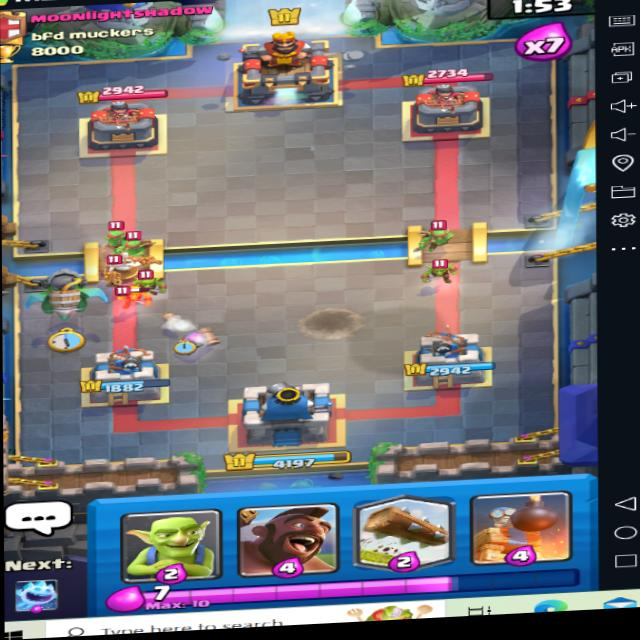goblin: (423, 258, 464, 283), (116, 286, 150, 313), (132, 270, 164, 293)
monk: (95, 244, 164, 289)
spear-goblin: (418, 215, 459, 246), (100, 223, 142, 249), (116, 232, 156, 259)
